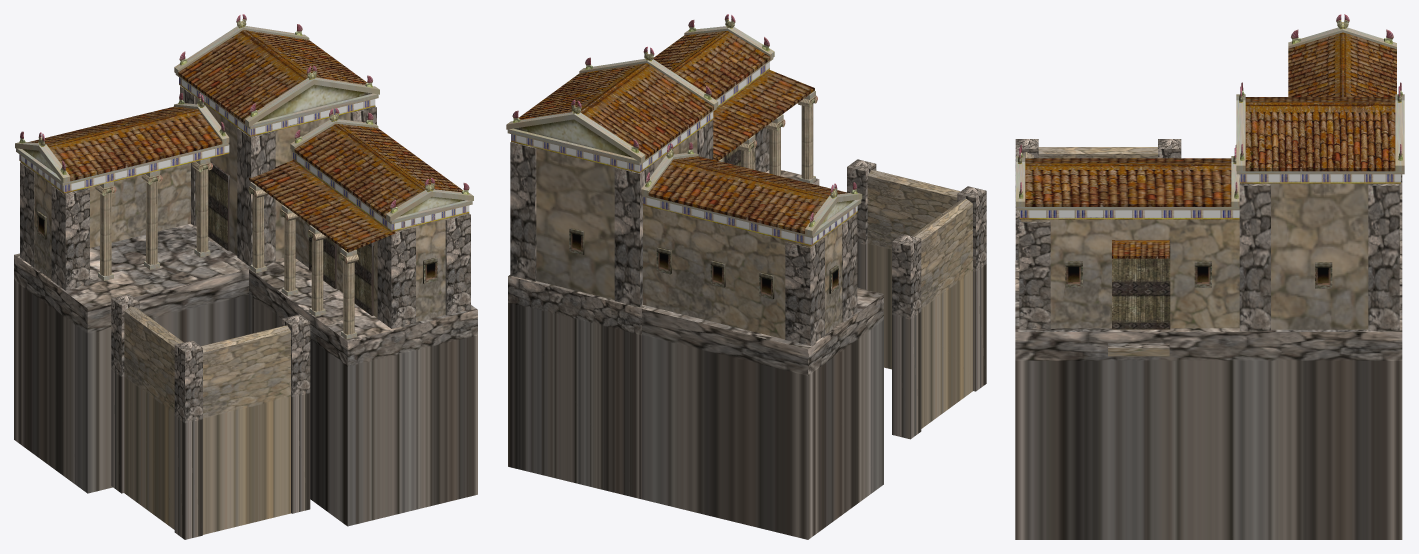
The model's file is forge.dae.
3 views of the same model, side by side, from view 1: azimuth 30°, elevation 25°; view 2: azimuth 150°, elevation 25°; view 3: azimuth 270°, elevation 25° (orthographic). The views are drawn at different scales.
Parts seen in each view (by area): view 1: forge; view 2: forge; view 3: forge.
Part boxes in pixels (x1,y1,x2,y2): forge: (14,14,477,539); forge: (506,14,986,539); forge: (1015,14,1404,539).
Size of the model in its own units: 19.78 by 19.67 by 23.25.
